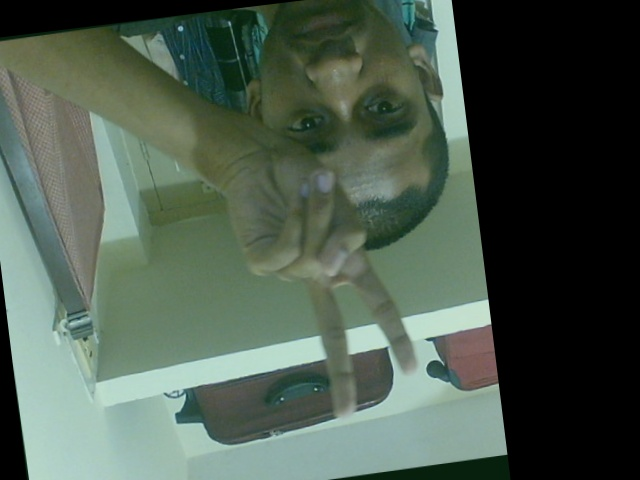hand: (192, 135, 421, 423)
